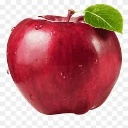apple: (6, 14, 123, 114)
